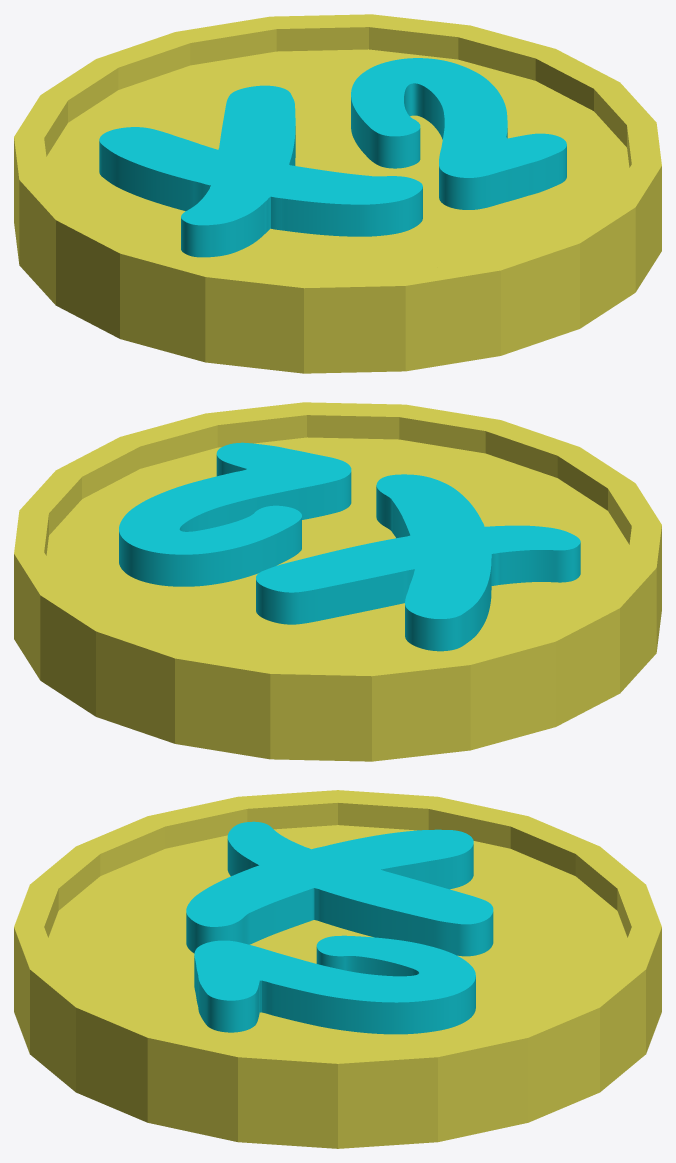
3 views of the same model, one above another, from view 1: azimuth 30°, elevation 25°; view 2: azimuth 150°, elevation 25°; view 3: azimuth 270°, elevation 25° (orthographic).
Parts seen in each view (by area): view 1: Cylinder, Text; view 2: Cylinder, Text; view 3: Cylinder, Text.
Part boxes in pixels (left/top/right/bottom): Cylinder: left=14, top=14, right=661, bottom=373; Text: left=99, top=58, right=566, bottom=257; Cylinder: left=14, top=402, right=661, bottom=761; Text: left=119, top=442, right=580, bottom=651; Cylinder: left=14, top=790, right=661, bottom=1148; Text: left=186, top=821, right=493, bottom=1034.
Bounding box in the file's own units: 176 × 32.24 × 176.
